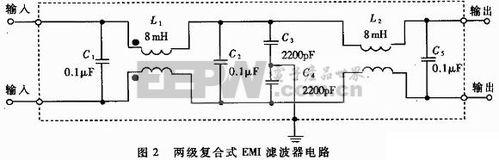cap1: (209, 57, 230, 67), (94, 55, 111, 67), (262, 38, 280, 48), (417, 55, 438, 63), (263, 77, 281, 86)
gnd: (287, 133, 304, 144)
inductance: (131, 63, 176, 82), (130, 38, 175, 56), (358, 62, 396, 77), (356, 41, 395, 53)
